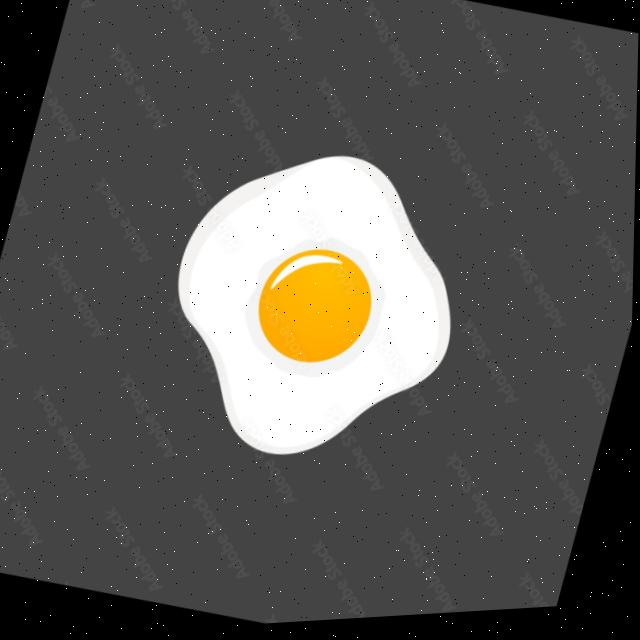Egg: (180, 159, 451, 456)
